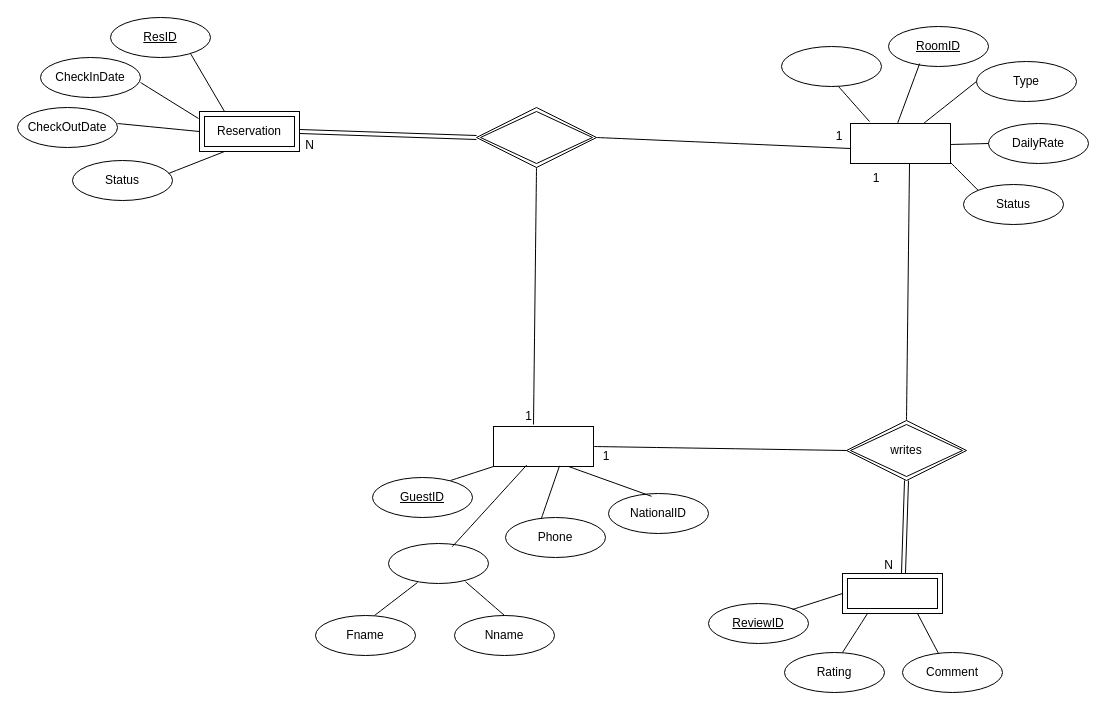
Image size: 1106x710. Some labels were removed from this diagram. Each missing label, with the centre of its shape:
"books" goes at point (536, 137).
"Capacity" goes at point (831, 66).
"Full_Name" goes at point (438, 563).
"Guest" goes at point (543, 446).
"Review" goes at point (892, 593).
"Room" goes at point (900, 143).
